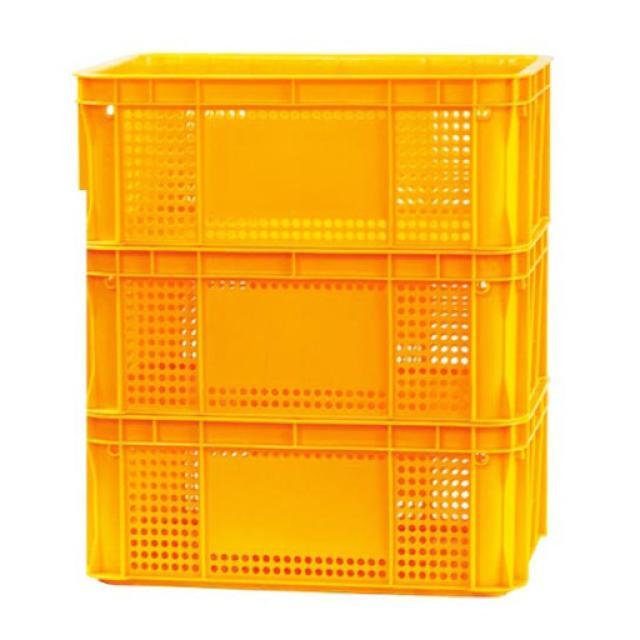basket: (76, 51, 551, 596)
